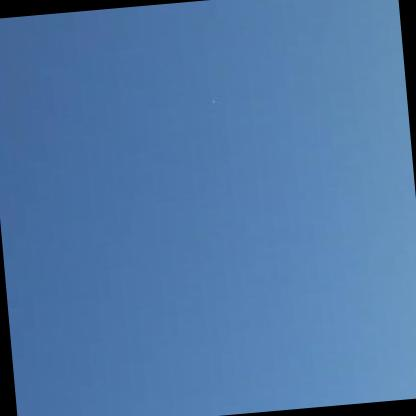plane: (210, 97, 221, 105)
